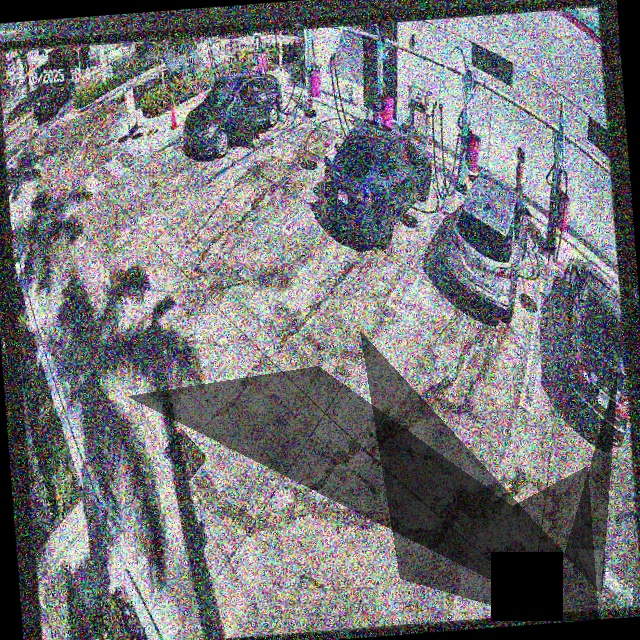Car: (318, 116, 436, 258), (449, 171, 534, 328), (184, 67, 287, 162)
